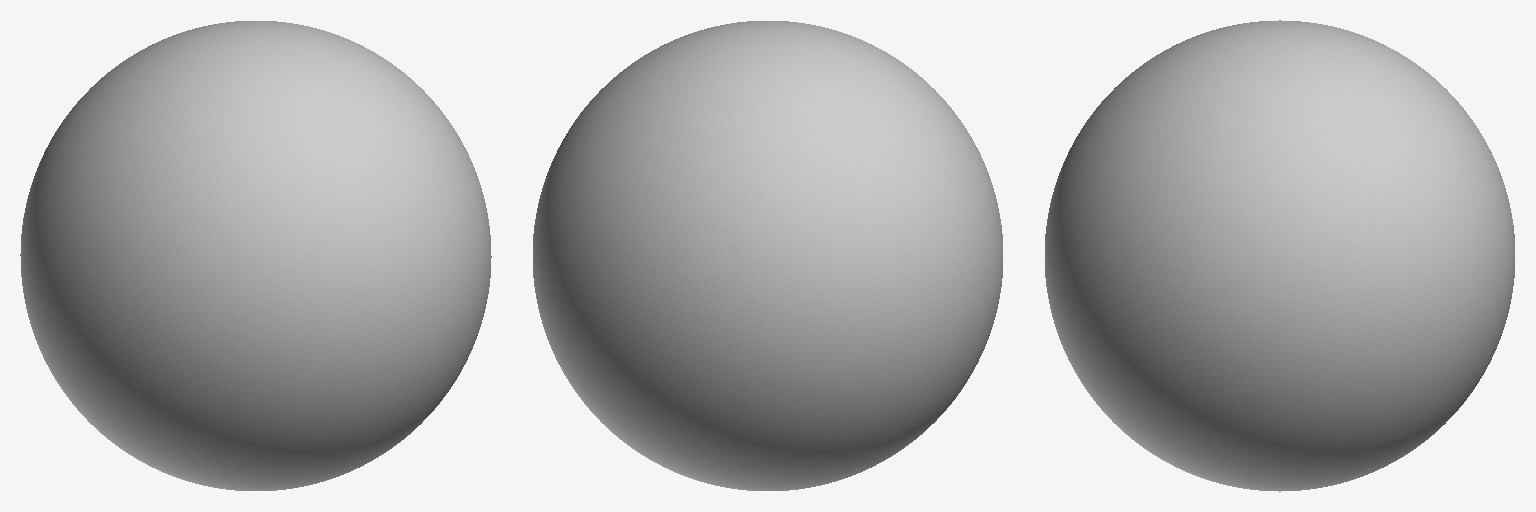
The model's file is Luna.obj.
The picture shows the model from 3 angles: view 1: azimuth 30°, elevation 25°; view 2: azimuth 150°, elevation 25°; view 3: azimuth 270°, elevation 25°; orthographic projection.
Parts seen in each view (by area): view 1: Moon; view 2: Moon; view 3: Moon.
Boxes of the visible parts, <box> form: Moon: <box>20,21,491,490</box>; Moon: <box>533,21,1002,490</box>; Moon: <box>1045,20,1514,491</box>.
Bounding box in the file's own units: 0.906 × 0.906 × 0.906.